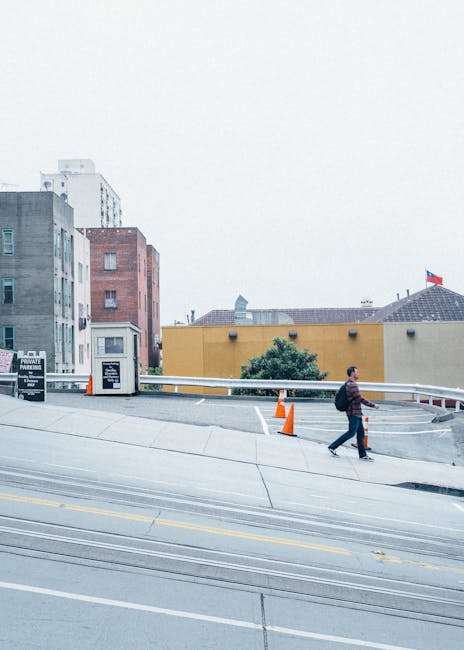traffic_cone: (277, 402, 298, 437), (351, 416, 371, 450), (272, 388, 287, 418), (84, 374, 93, 395)
